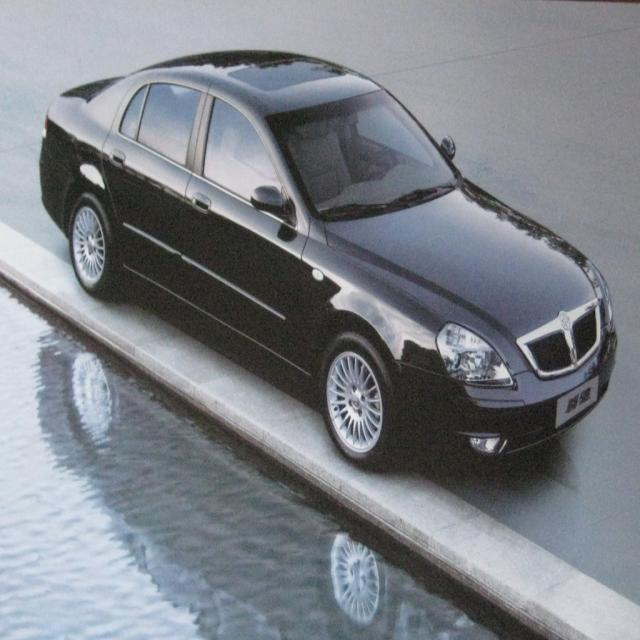car: (38, 46, 616, 467)
